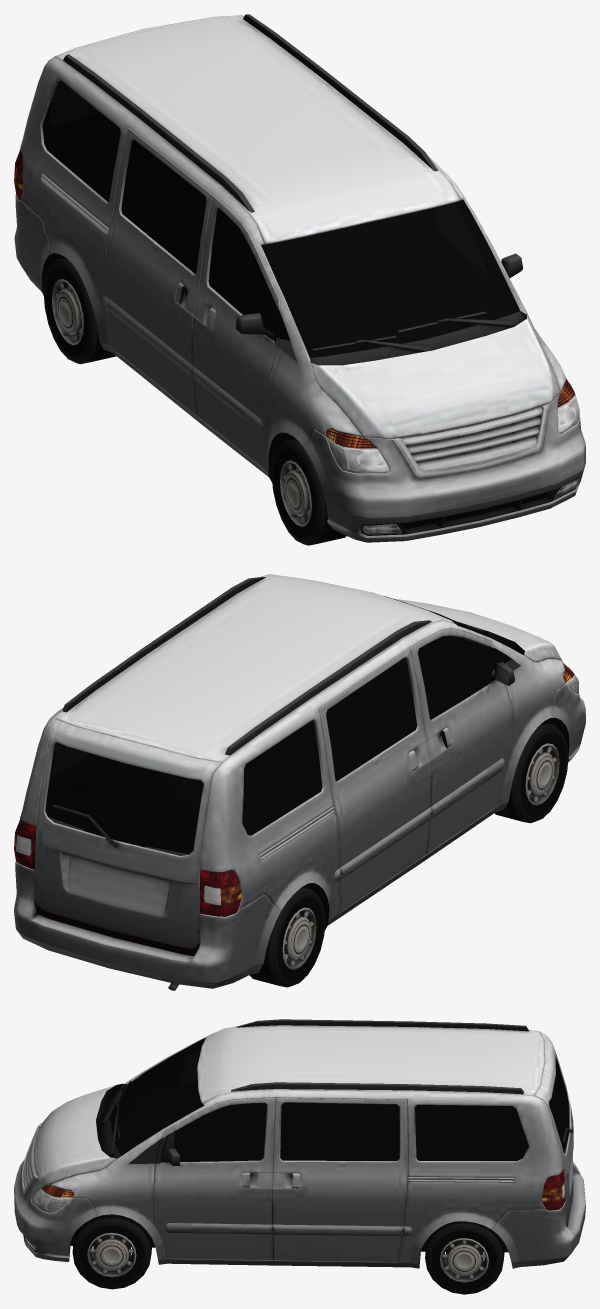
File: van_minivan.glb
3 renders of one model, top to bottom at view 1: azimuth 30°, elevation 25°; view 2: azimuth 150°, elevation 25°; view 3: azimuth 270°, elevation 25°, orthographic. The views are drawn at different scales.
Parts seen in each view (by area): view 1: paint, glass, wheel, lights; view 2: paint, glass, wheel, lights; view 3: paint, glass, wheel, lights.
Part boxes in pixels (<box>): paint: <box>14,14,585,542</box>; glass: <box>42,80,519,361</box>; wheel: <box>43,257,346,545</box>; lights: <box>14,149,579,533</box>; paint: <box>14,574,585,990</box>; glass: <box>45,596,520,855</box>; wheel: <box>249,722,568,987</box>; lights: <box>14,662,578,916</box>; paint: <box>14,1019,585,1268</box>; glass: <box>109,1038,569,1161</box>; wheel: <box>72,1214,504,1294</box>; lights: <box>24,1168,565,1249</box>.
Bounding box in the file's own units: 1.91 × 1.8 × 4.7.
4 materials, 3 textured.
